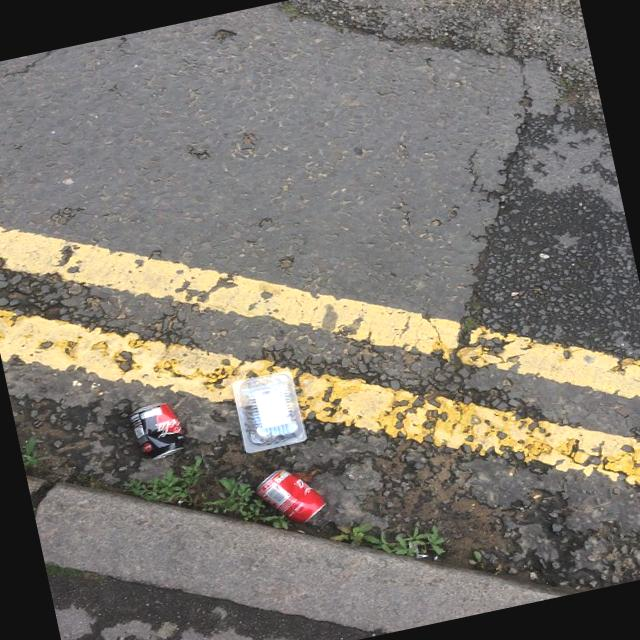Recycle: (230, 368, 308, 455), (251, 460, 330, 534), (130, 398, 188, 466)
